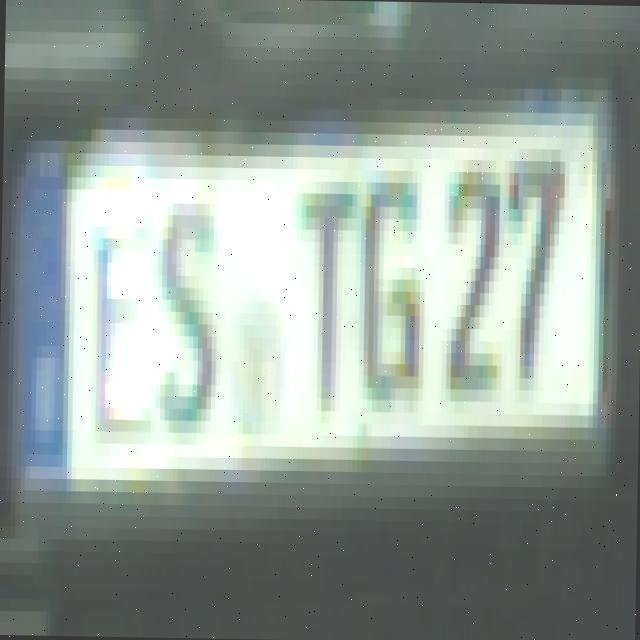Autre: (11, 132, 614, 508)
